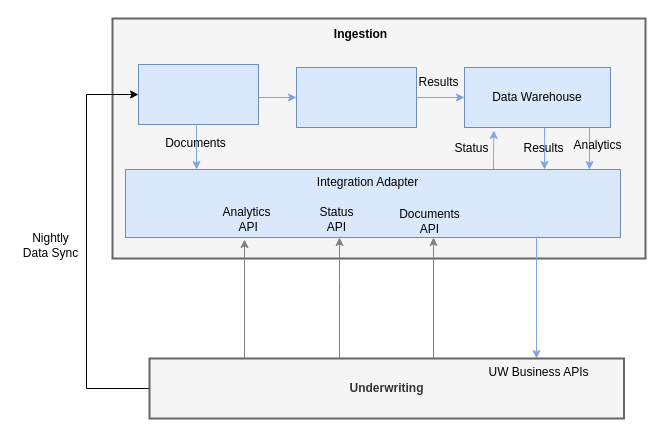
This 663x436 diagram has some shape labels left out. Here are the shapes that lost their labels. From the top down, the centre of each, then its label:
At (198,94): "Data Lake".
At (356,97): "AI Engine".
